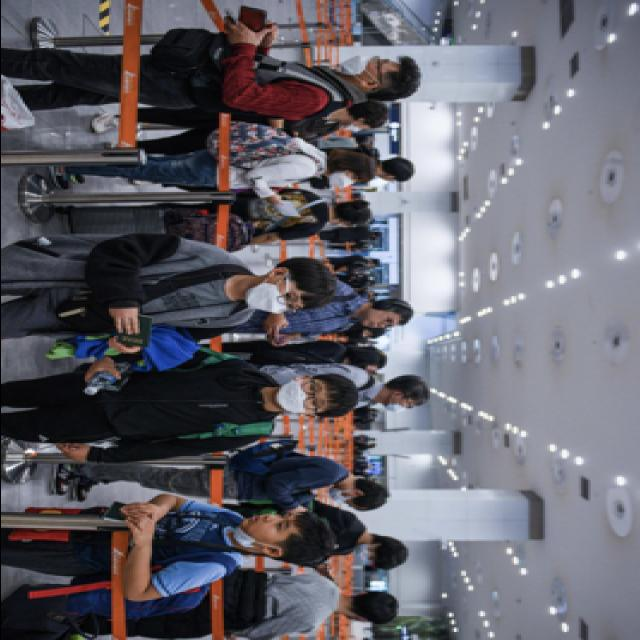mask: (244, 280, 304, 314), (278, 380, 328, 414), (338, 56, 393, 77), (326, 486, 355, 508), (326, 171, 362, 187), (354, 544, 376, 565), (384, 398, 414, 412), (343, 121, 369, 132)
no_mask: (242, 514, 297, 544), (362, 309, 398, 328)
